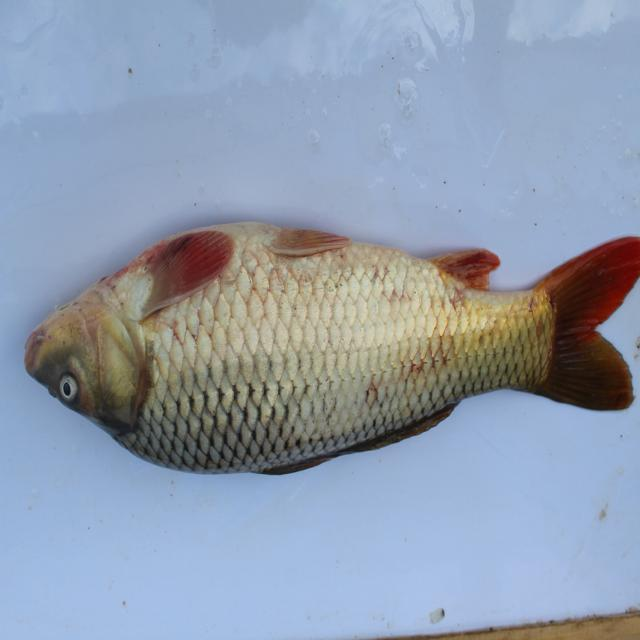CommonCarp: (24, 197, 640, 484)
